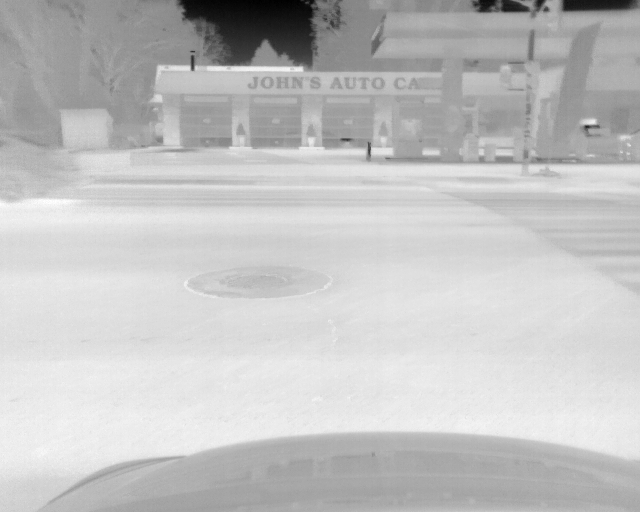car: (1, 131, 81, 205)
